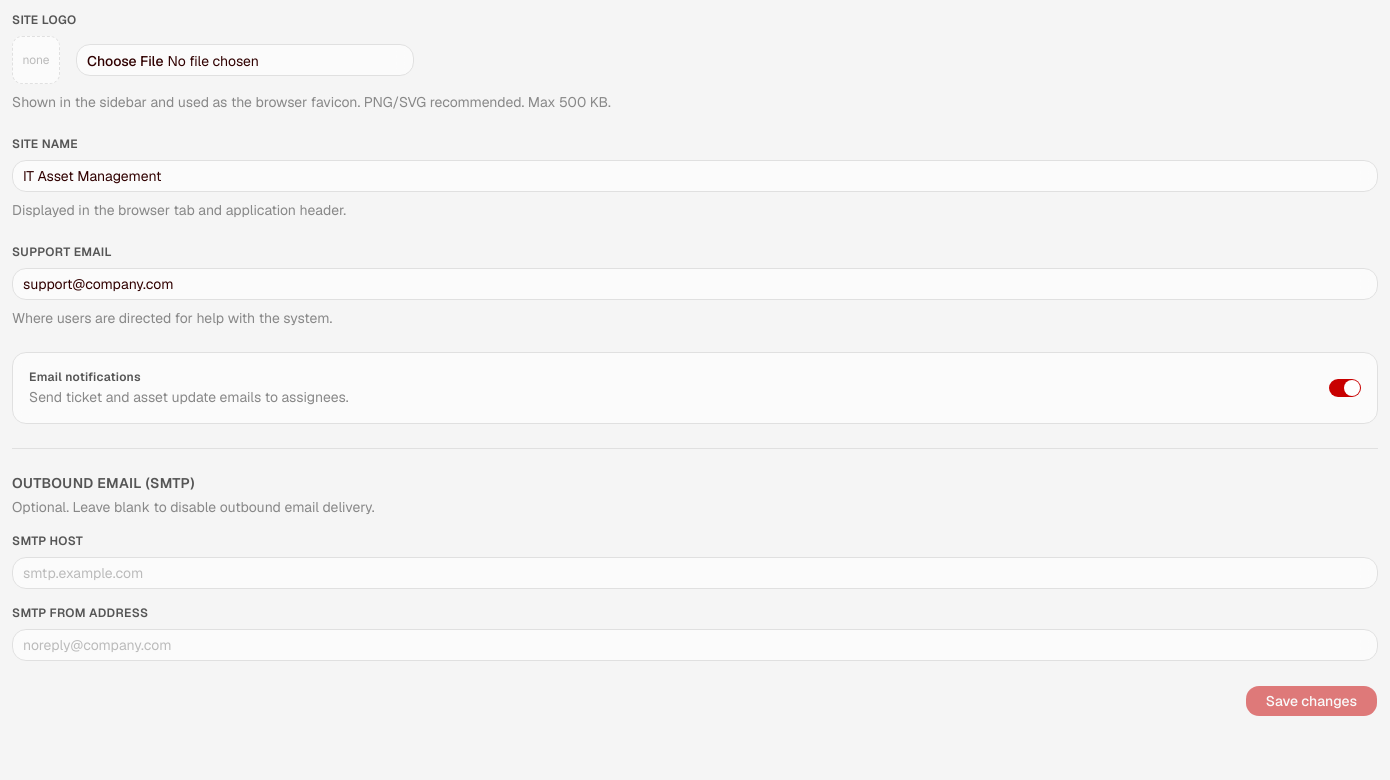
SettingsForm › blocks submission and shows a validation message for an invalid email
The width and height of the screenshot is (1390, 780).
Type "not-an-email" into the field labelled "Support email" at (695, 284), box [12,268,1378,300]
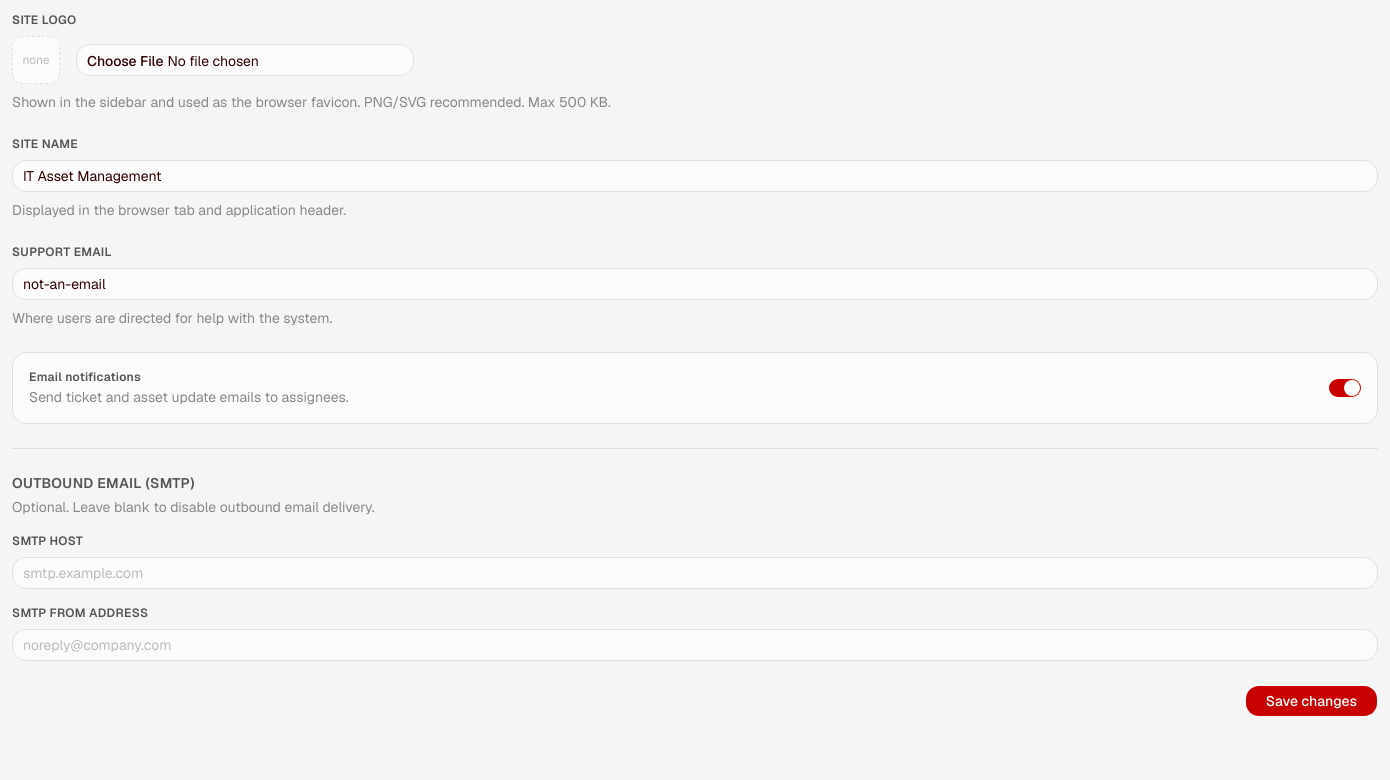
Submit the form with test id "settings-form"
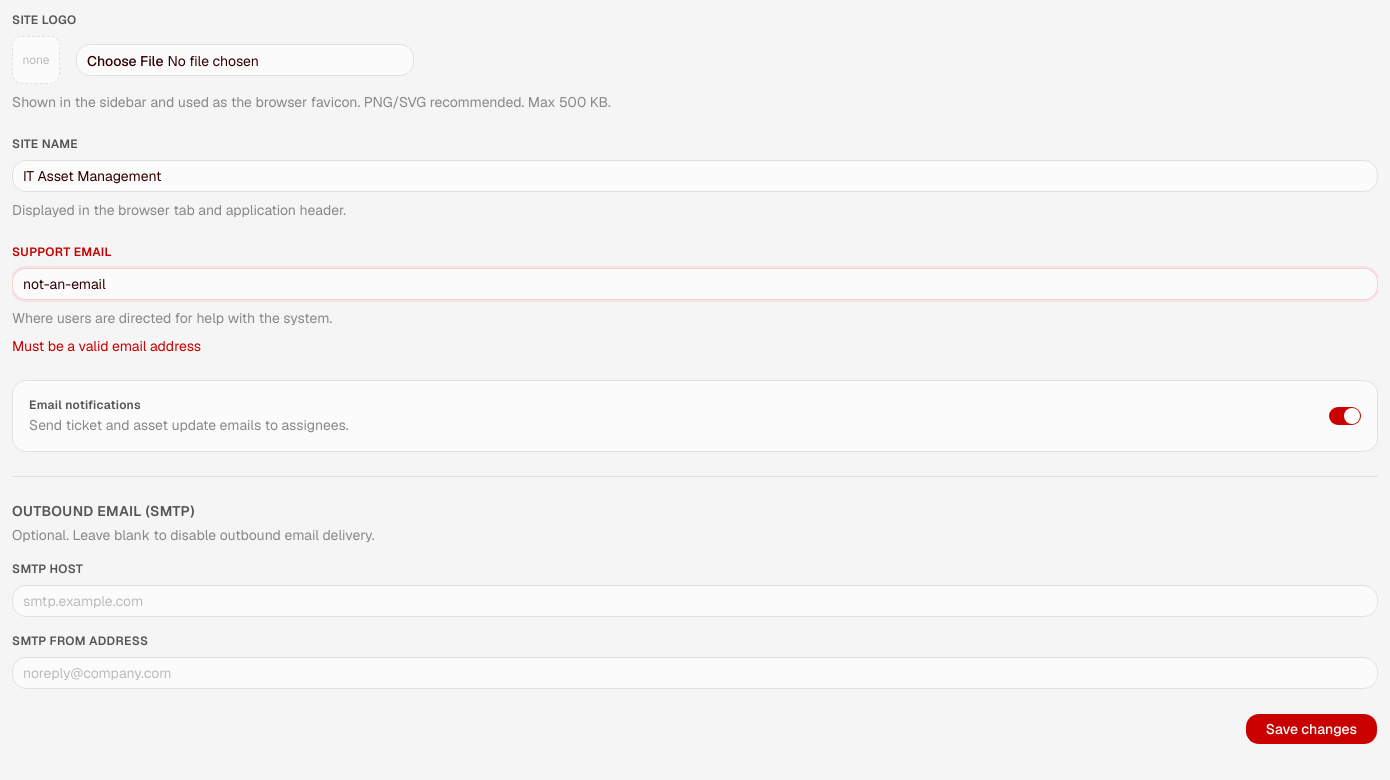
Now the text "Must be a valid email address" is shown, box [12,337,201,355]
